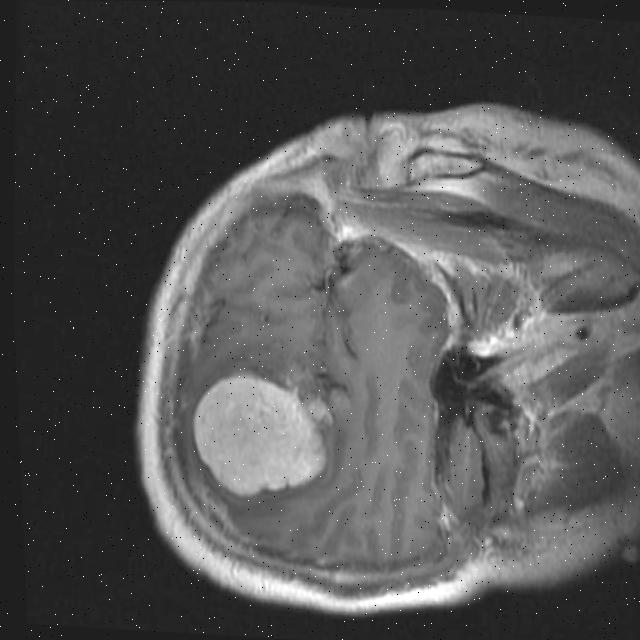Meningioma: (186, 367, 332, 501)
